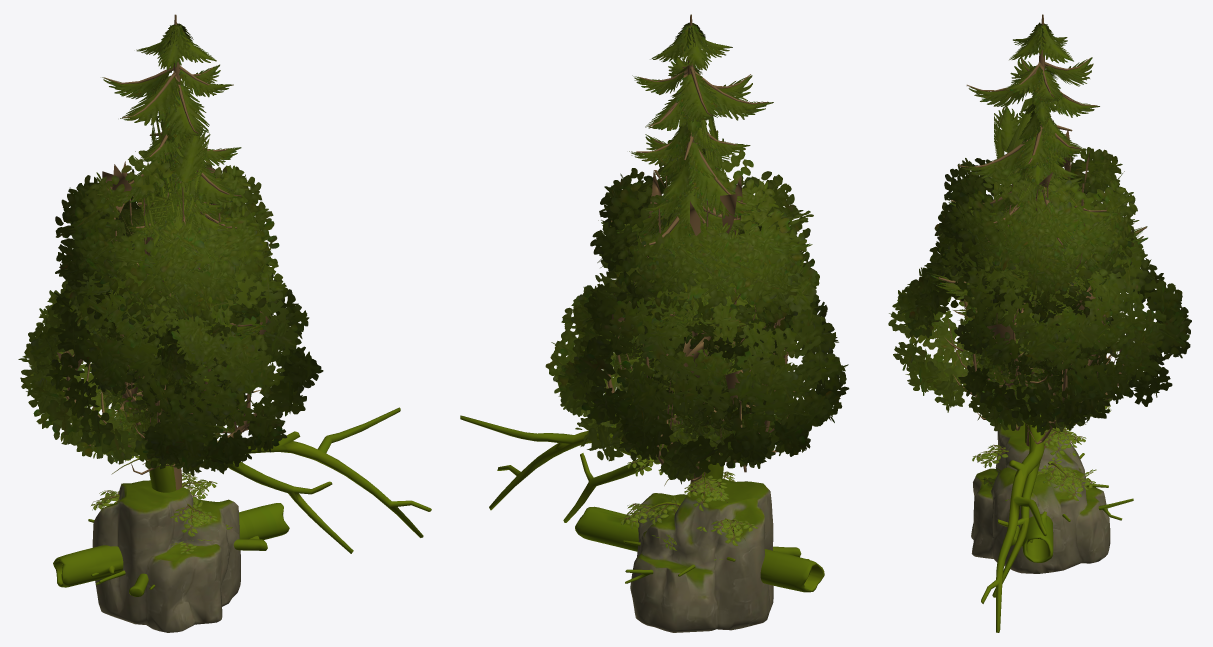
Rendered from nuu_props.glb.
3 renders of one model, left to right at view 1: azimuth 30°, elevation 25°; view 2: azimuth 150°, elevation 25°; view 3: azimuth 270°, elevation 25°, orthographic. The views are drawn at different scales.
Parts seen in each view (by area): view 1: SM_tree_02, SM_tree_03, SM_stone_06, SM_tree_04, SM_tree_07, SM_log_02, SM_tree_04@1, SM_tree_01, SM_tree_03@1, SM_tree_05, SM_tree_06, SM_tree_02@1 (+2 smaller); view 2: SM_tree_02, SM_tree_03, SM_stone_06, SM_tree_04, SM_tree_05, SM_log_02, SM_tree_07, SM_tree_06, SM_tree_01, SM_tree_02@1, SM_tree_03@1, SM_tree_04@1 (+2 smaller); view 3: SM_tree_02, SM_tree_03, SM_stone_06, SM_tree_04, SM_tree_07, SM_tree_05, SM_tree_01, SM_tree_06, SM_tree_03@1, SM_tree_04@1, SM_log_02, SM_tree_02@1 (+1 smaller).
Part boxes in pixels (x1,y1,x2,y2): SM_tree_02: [18, 206, 323, 490]; SM_tree_03: [55, 150, 279, 438]; SM_stone_06: [92, 480, 240, 632]; SM_tree_04: [97, 14, 268, 396]; SM_tree_07: [149, 407, 431, 553]; SM_log_02: [53, 503, 289, 587]; SM_tree_04@1: [131, 73, 252, 325]; SM_tree_01: [87, 349, 260, 445]; SM_tree_03@1: [102, 161, 261, 397]; SM_tree_05: [92, 80, 256, 414]; SM_tree_06: [91, 421, 218, 536]; SM_tree_02@1: [57, 256, 270, 466]; SM_tree_02: [545, 212, 849, 491]; SM_tree_03: [590, 139, 814, 436]; SM_stone_06: [630, 478, 773, 632]; SM_tree_04: [598, 14, 773, 492]; SM_tree_05: [615, 88, 765, 421]; SM_log_02: [575, 506, 824, 592]; SM_tree_07: [460, 415, 723, 522]; SM_tree_06: [619, 407, 758, 545]; SM_tree_01: [610, 344, 779, 459]; SM_tree_02@1: [603, 271, 784, 461]; SM_tree_03@1: [639, 170, 768, 338]; SM_tree_04@1: [642, 67, 739, 325]; SM_tree_02: [888, 185, 1191, 448]; SM_tree_03: [934, 121, 1139, 394]; SM_stone_06: [971, 422, 1110, 573]; SM_tree_04: [926, 14, 1147, 443]; SM_tree_07: [981, 415, 1046, 632]; SM_tree_05: [954, 87, 1114, 374]; SM_tree_01: [957, 314, 1113, 417]; SM_tree_06: [972, 405, 1111, 500]; SM_tree_03@1: [977, 120, 1110, 358]; SM_tree_04@1: [938, 64, 1142, 321]; SM_log_02: [1022, 511, 1053, 562]; SM_tree_02@1: [953, 254, 1126, 441].
Bounding box in the file's own units: 19.57 × 29.28 × 15.46.
88 materials, 88 textured.
